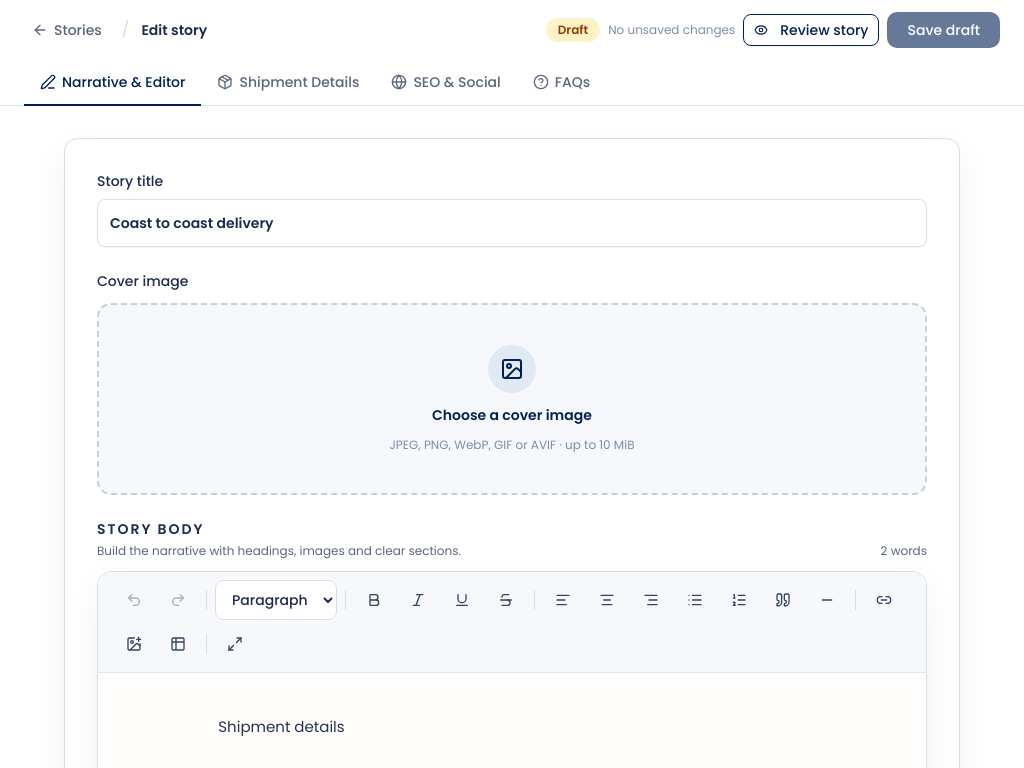
Scenario: story editorial workflow › opens the invalid section after saving from another tab
Click the button "SEO & Social": (446, 83) [375,60,517,106]
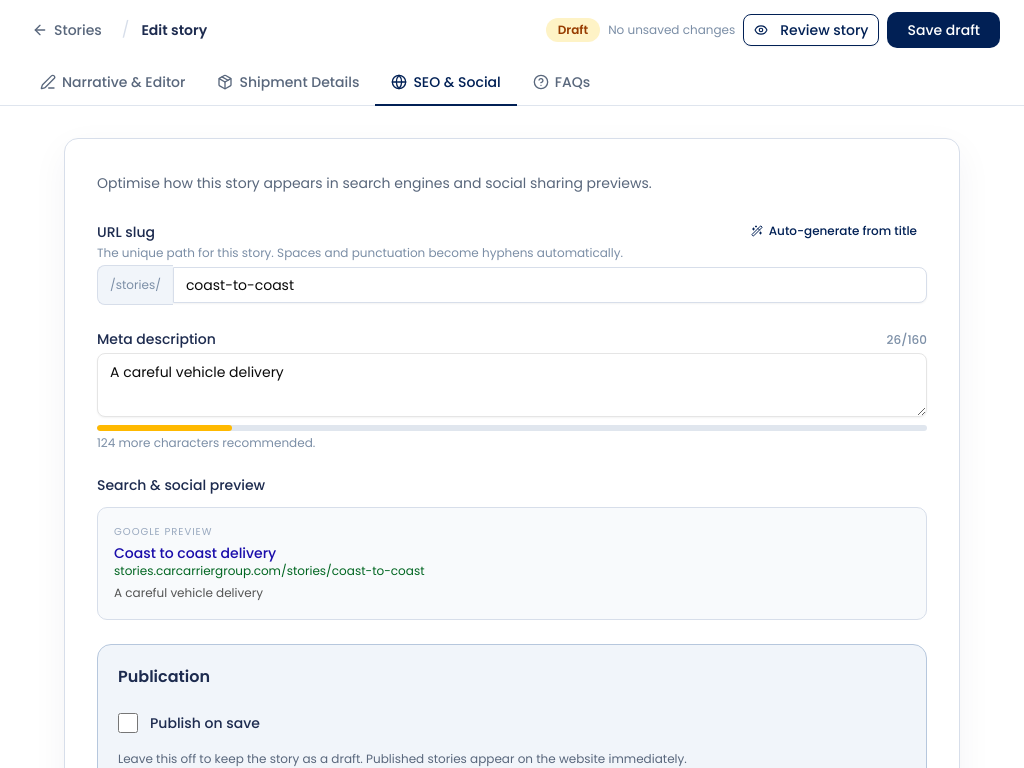
expect the button "Save draft" is enabled: met
Click the button "Save draft": (944, 30) [888,12,1000,48]
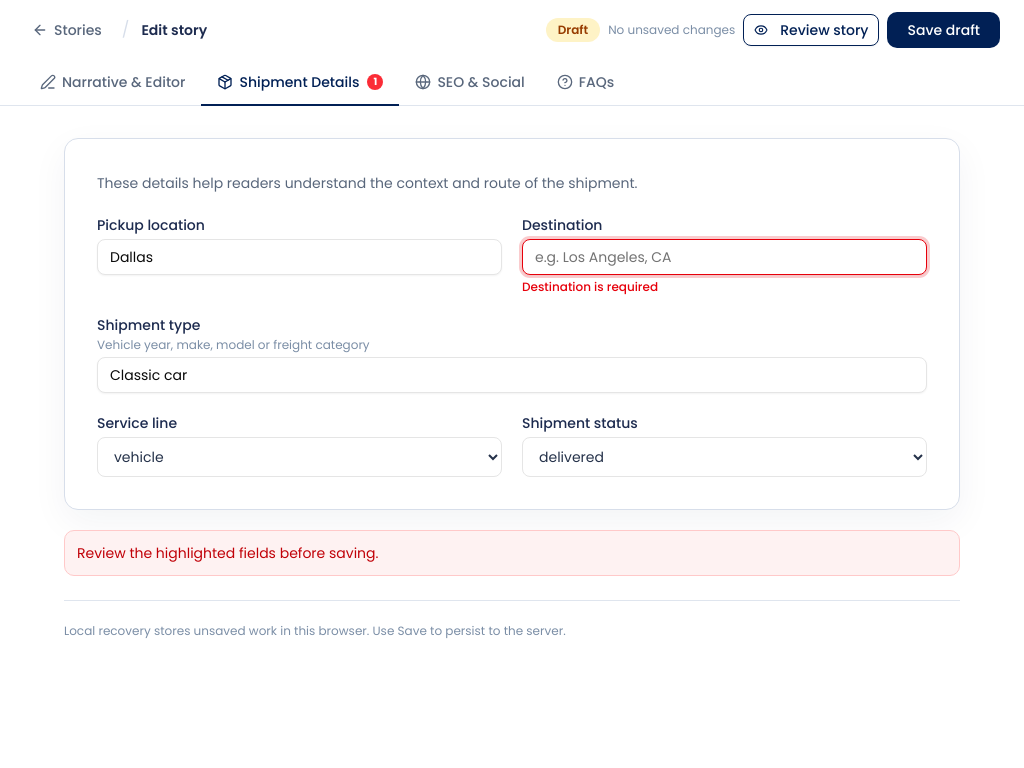
expect the field labelled "Destination" is shown: met, box [522,239,927,275]
